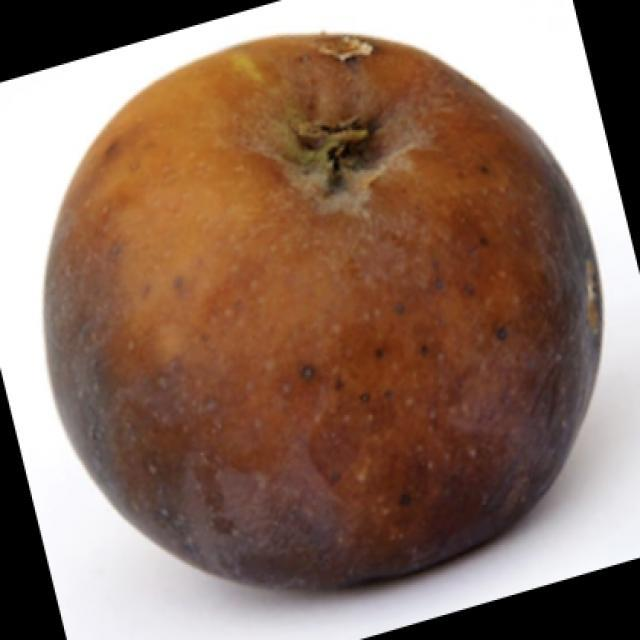Rotten: (53, 32, 587, 610)
